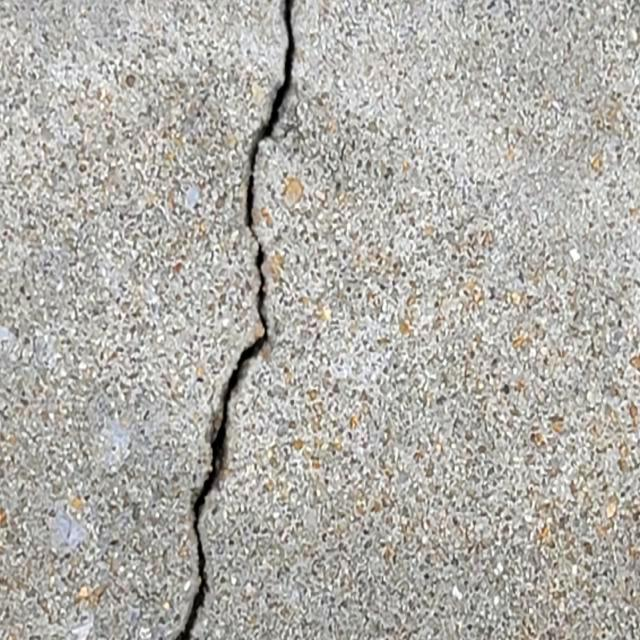SurfaceCrack: (142, 0, 347, 640)
